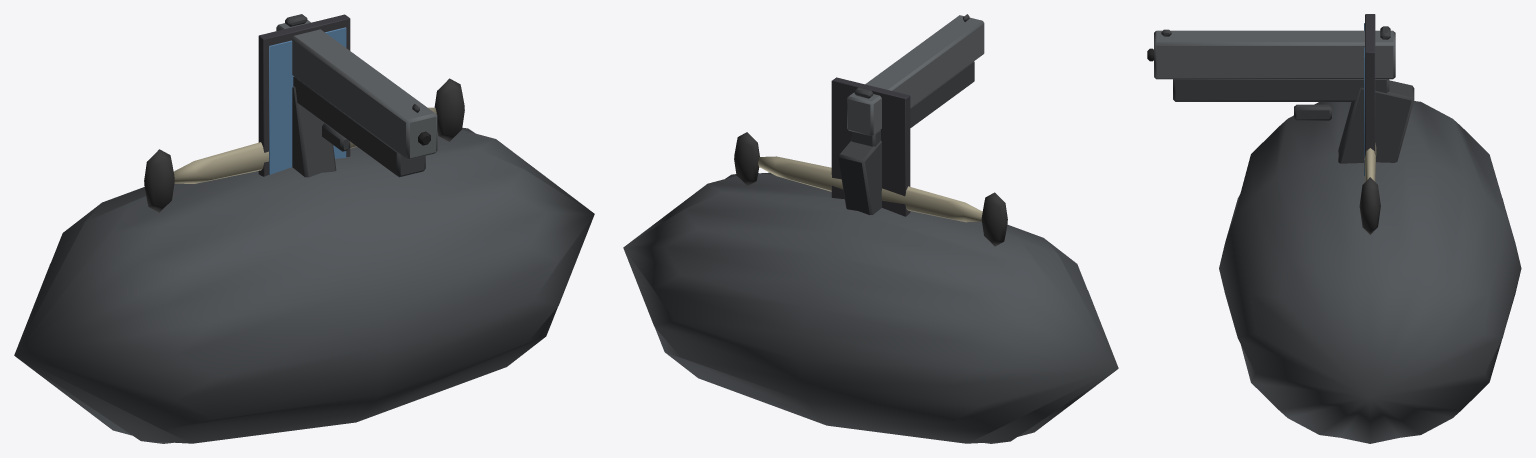
File: props.glb
3 renders of one model, left to right at view 1: azimuth 30°, elevation 25°; view 2: azimuth 150°, elevation 25°; view 3: azimuth 270°, elevation 25°, orthographic. The views are drawn at different scales.
Parts seen in each view (by area): view 1: duffel, pistol, phone; view 2: duffel, pistol, phone; view 3: duffel, pistol, phone.
Boxes of the visible parts, left/top/right/bottom form: duffel: left=14, top=78, right=594, bottom=443; pistol: left=276, top=14, right=437, bottom=177; phone: left=258, top=14, right=350, bottom=176; duffel: left=623, top=132, right=1118, bottom=443; pistol: left=838, top=14, right=984, bottom=214; phone: left=831, top=77, right=910, bottom=216; duffel: left=1219, top=101, right=1521, bottom=443; pistol: left=1147, top=26, right=1414, bottom=163; phone: left=1364, top=14, right=1375, bottom=175.
Size of the model in its own units: 0.4805 by 0.3064 by 0.2938.
